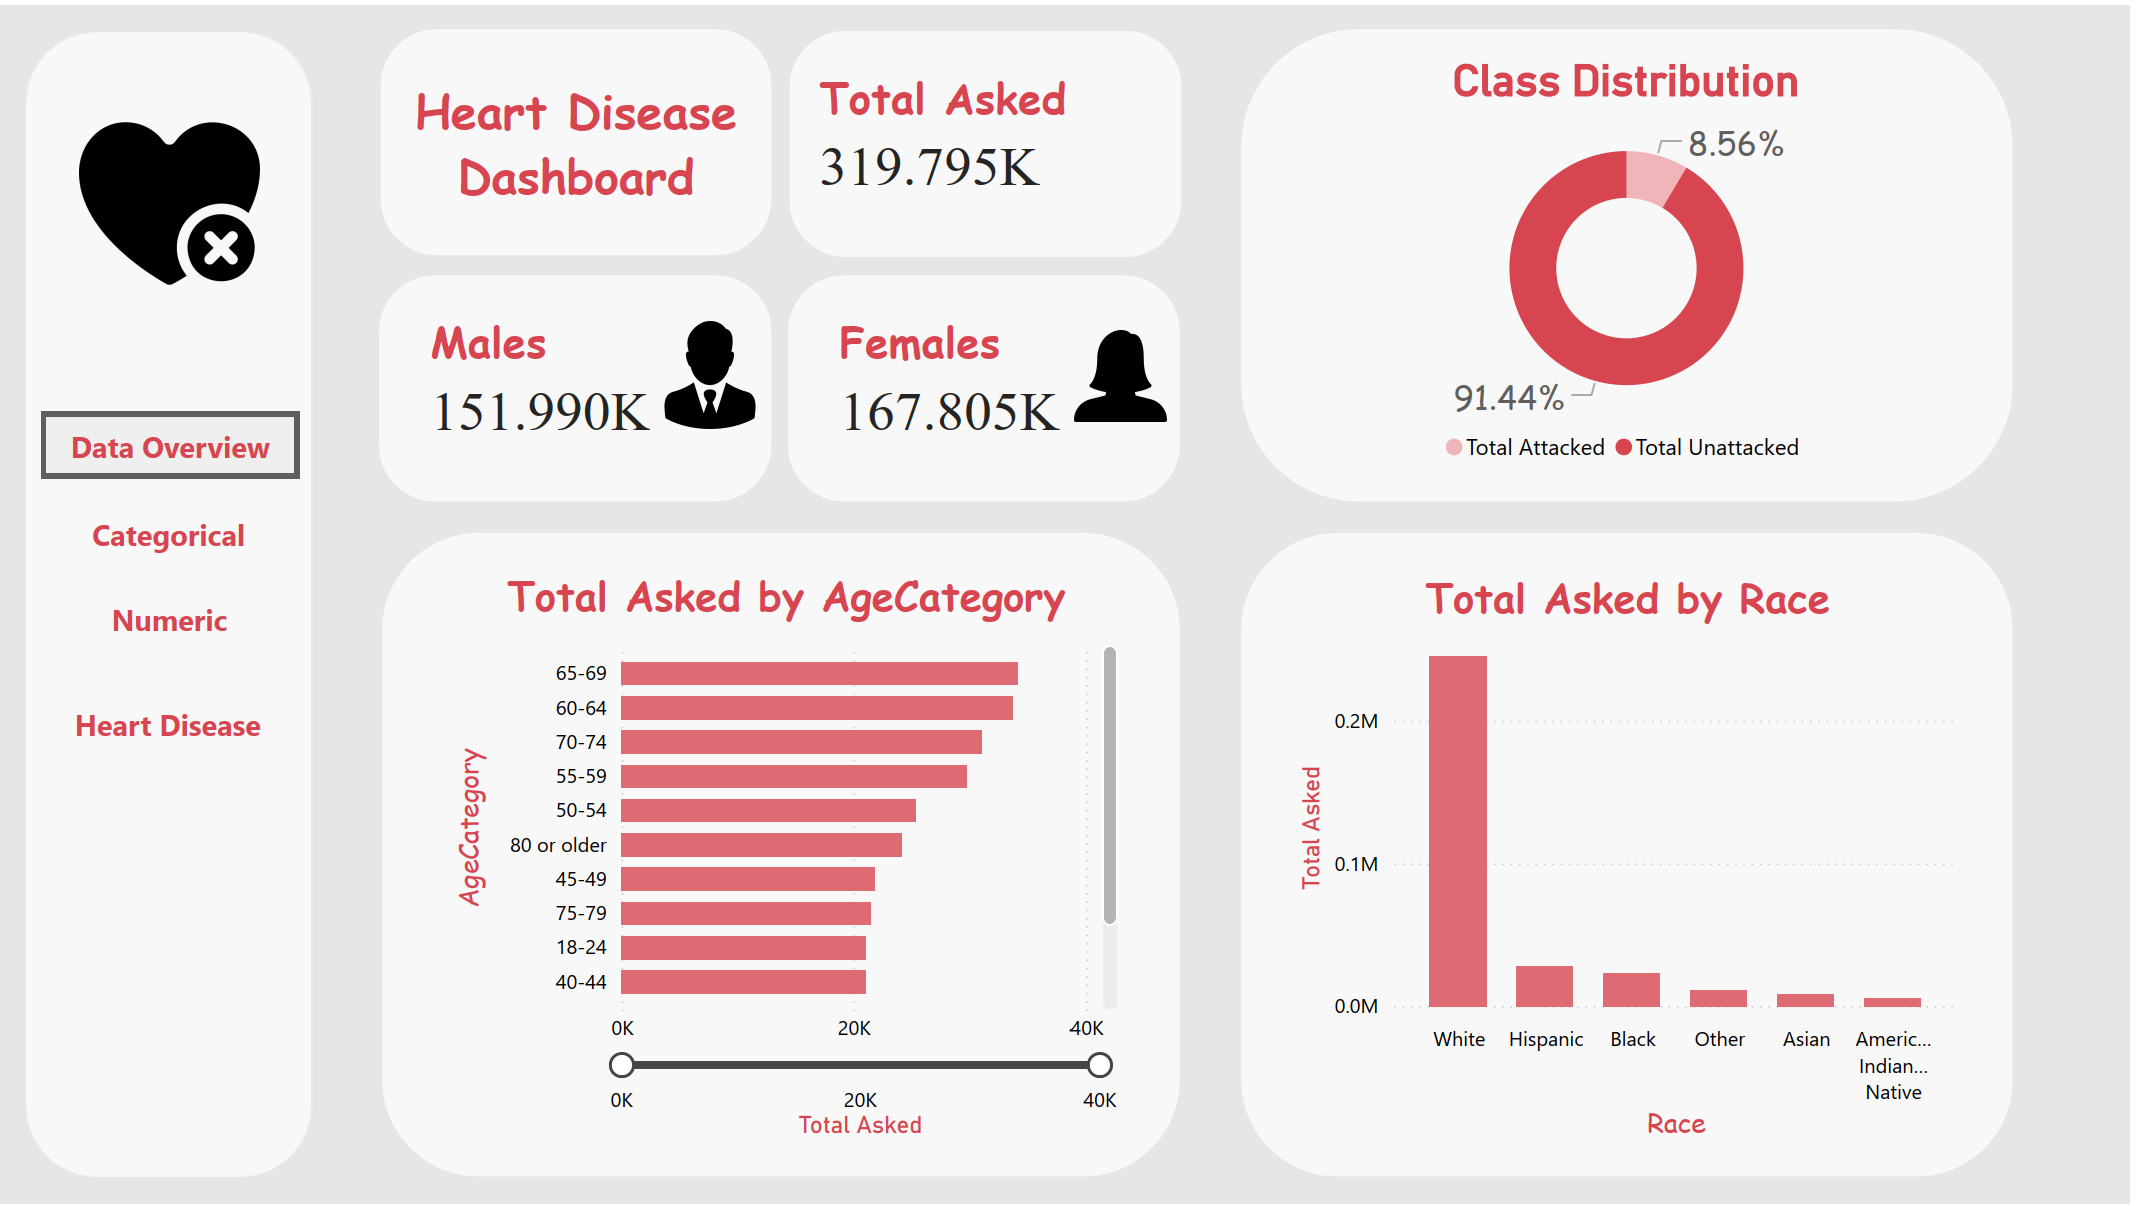

The dashboard page shown, as its layout file describes it:
{"tool":"powerbi","page":{"name":"Page 1","canvas":[1280,720],"ordinal":0},"visuals":[{"type":"shape","box":[14.6,14.6,173.4,690.2],"z":0},{"type":"shape","box":[229.5,14,234.6,136.4],"z":1000},{"type":"shape","box":[474.7,14.6,234.9,136.1],"z":2000},{"type":"shape","box":[228,161.8,235.6,136.3],"z":3000},{"type":"shape","box":[473.8,161.8,235.6,136.3],"z":4000},{"type":"cardVisual","fields":{"Data":["heart_2020_uncleaned.Total Asked"]},"box":[481.4,24.3,200,120],"z":5000},{"type":"image","box":[389.7,178.3,73.9,87.9],"z":6000},{"type":"image","box":[640.6,174.5,65,96.8],"z":7000},{"type":"cardVisual","fields":{"Data":["heart_2020_uncleaned.Males"]},"box":[247.1,170.7,200,119.7],"z":8000},{"type":"cardVisual","fields":{"Data":["heart_2020_uncleaned.Female"]},"box":[492.9,170.7,200,119.7],"z":9000},{"type":"shape","box":[230,317.1,478.6,387.1],"z":10000},{"type":"barChart","fields":{"Y":["heart_2020_uncleaned.Total Asked"],"Category":["heart_2020_uncleaned.AgeCategory"]},"box":[271.3,333.7,403.7,351.5],"z":11000},{"type":"shape","box":[746.3,317.1,463.6,387.2],"z":12000},{"type":"lineClusteredColumnComboChart","fields":{"Category":["heart_2020_uncleaned.Race"],"Y":["heart_2020_uncleaned.Total Asked"]},"box":[775.6,335,405,351.5],"z":13000},{"type":"actionButton","box":[25.5,243.5,154.3,40.8],"z":14000},{"type":"actionButton","box":[24.2,410.5,154.3,40.8],"z":15000},{"type":"image","box":[43.3,59.9,117.3,118.6],"z":16000},{"type":"shape","box":[746.3,14,463.6,284],"z":17000},{"type":"donutChart","title":"Class Distribution ","fields":{"Y":["heart_2020_uncleaned.Total Attacked","heart_2020_uncleaned.Total Unattacked"]},"box":[799.8,29.3,355.3,254.7],"z":18000},{"type":"actionButton","box":[25.5,299.6,153,35.7],"z":19000},{"type":"actionButton","box":[24.2,348,155.5,40.8],"z":20000}]}

Visuals, with their boxes in screenshot pixels (x1, y1, x2, y2), scaled from the page's 1280x720 canvas onto the 2136x1206 screenshot:
shape: bbox=(24, 24, 314, 1181)
shape: bbox=(383, 23, 774, 252)
shape: bbox=(792, 24, 1184, 252)
shape: bbox=(380, 271, 774, 499)
shape: bbox=(791, 271, 1184, 499)
cardVisual - heart_2020_uncleaned.Total Asked: bbox=(803, 41, 1137, 242)
image: bbox=(650, 299, 774, 446)
image: bbox=(1069, 292, 1177, 454)
cardVisual - heart_2020_uncleaned.Males: bbox=(412, 286, 746, 486)
cardVisual - heart_2020_uncleaned.Female: bbox=(823, 286, 1156, 486)
shape: bbox=(384, 531, 1182, 1180)
barChart - heart_2020_uncleaned.Total Asked x heart_2020_uncleaned.AgeCategory: bbox=(453, 559, 1126, 1148)
shape: bbox=(1245, 531, 2019, 1180)
lineClusteredColumnComboChart - heart_2020_uncleaned.Race x heart_2020_uncleaned.Total Asked: bbox=(1294, 561, 1970, 1150)
actionButton: bbox=(43, 408, 300, 476)
actionButton: bbox=(40, 688, 298, 756)
image: bbox=(72, 100, 268, 299)
shape: bbox=(1245, 23, 2019, 499)
"Class Distribution " donutChart: bbox=(1335, 49, 1928, 476)
actionButton: bbox=(43, 502, 298, 562)
actionButton: bbox=(40, 583, 300, 651)
